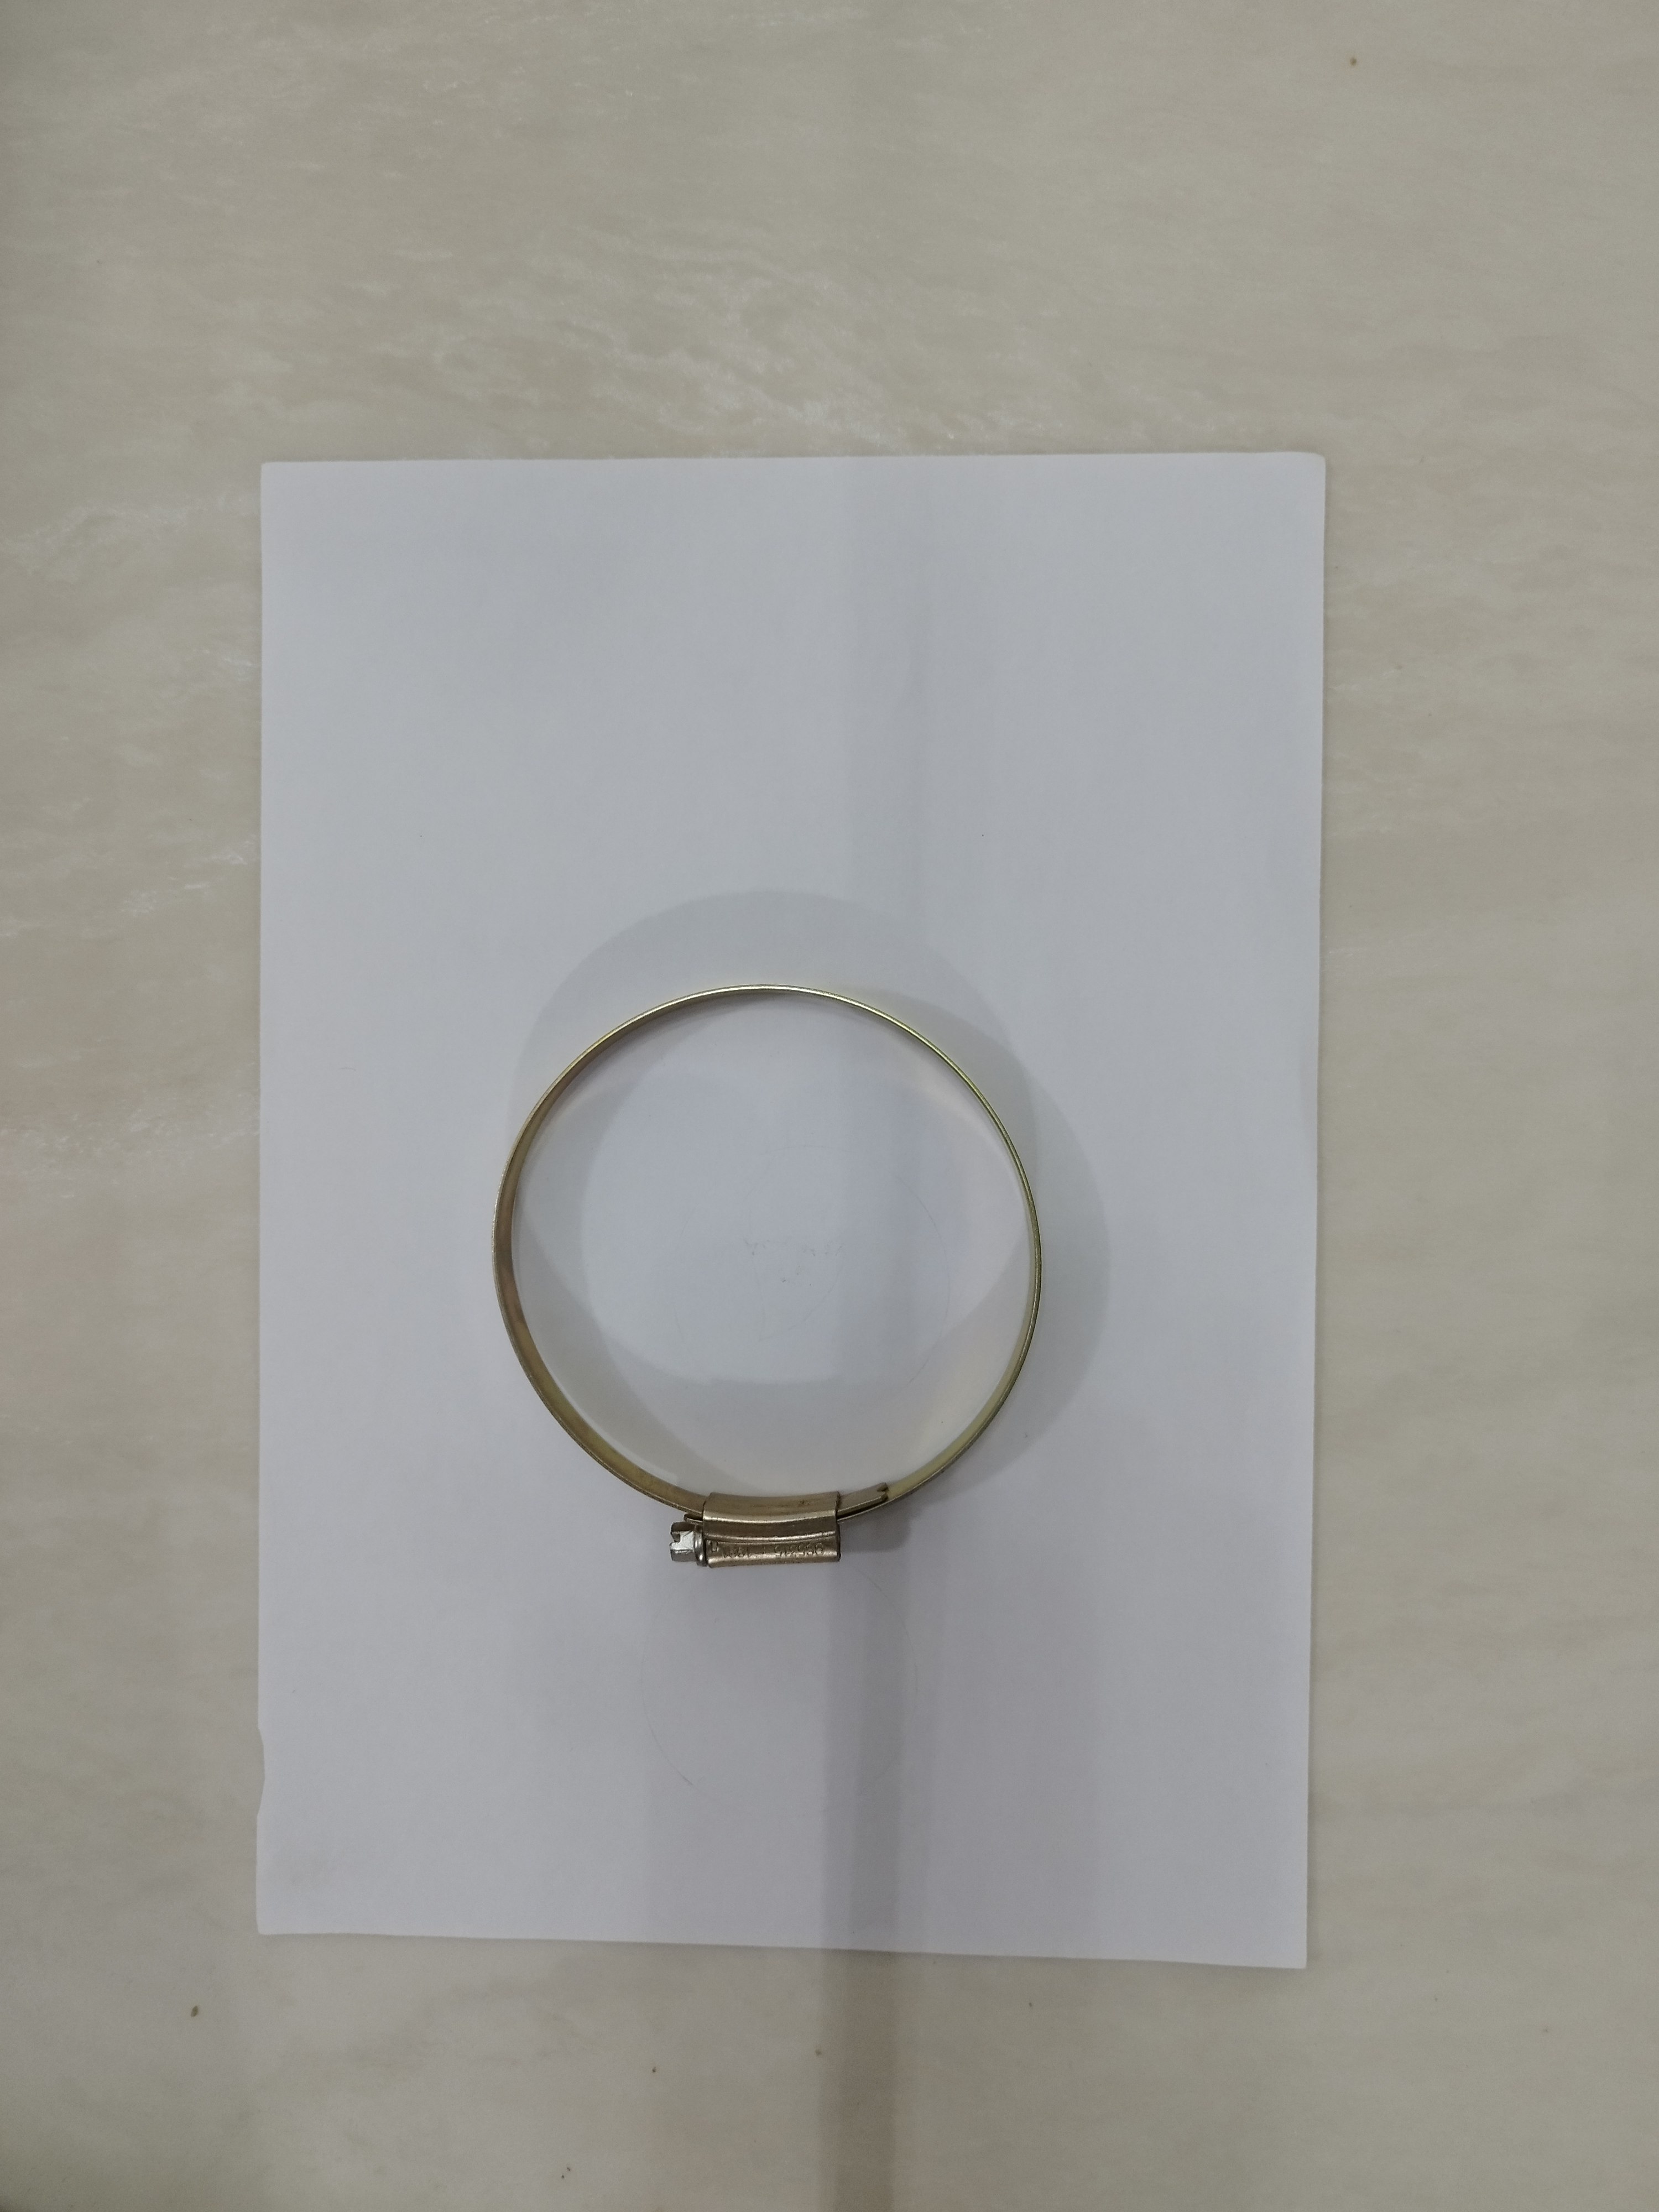ring_clamp: (450, 963, 1066, 1588)
